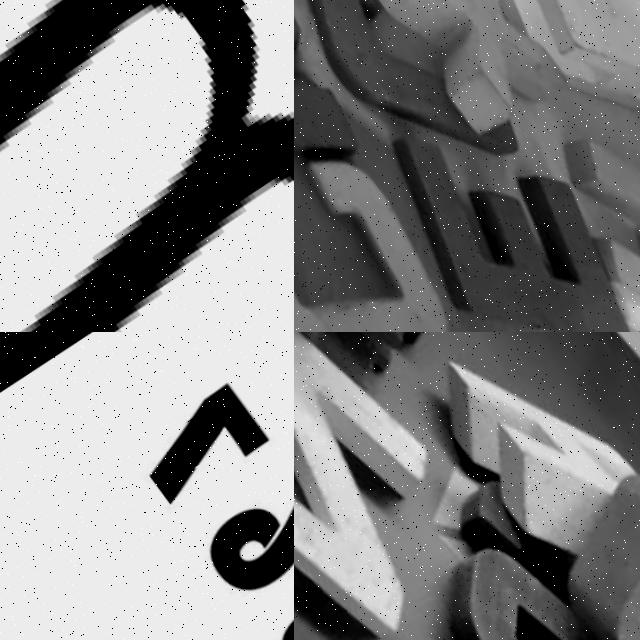6: (170, 453, 294, 613)
7: (99, 359, 286, 518)
C: (294, 101, 479, 332)
D: (498, 420, 640, 640)
E: (332, 71, 640, 332)
M: (0, 0, 294, 332), (630, 60, 640, 251)
R: (521, 91, 640, 319)
X: (325, 0, 576, 151)
Z: (294, 332, 498, 640)
